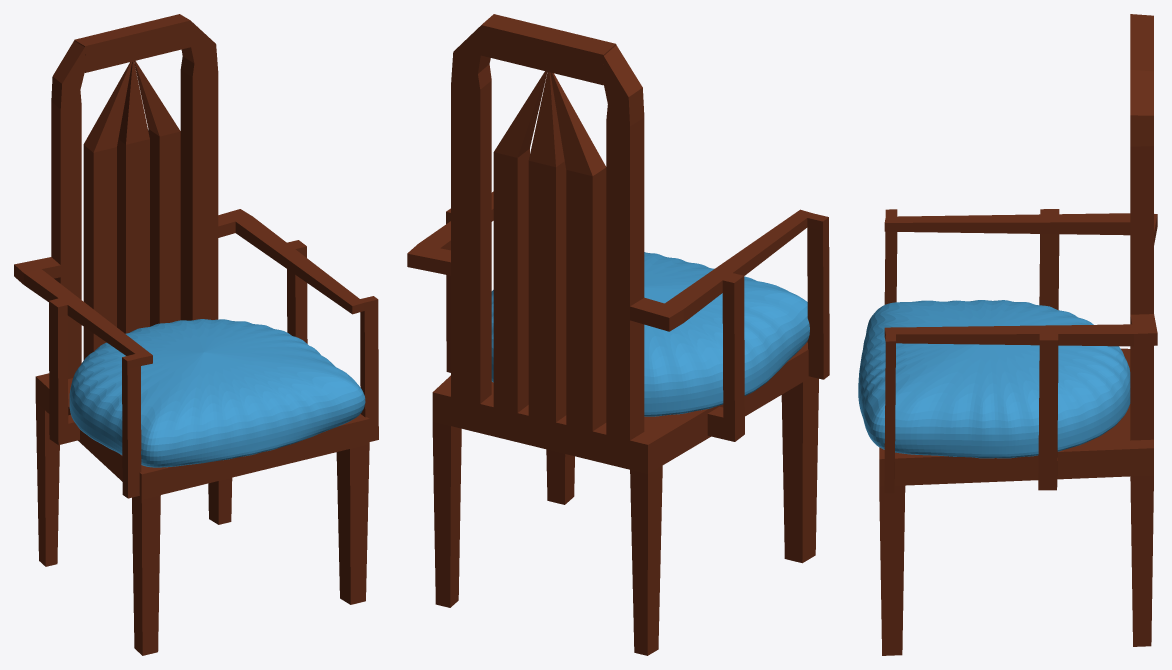
The model's file is chairroughaftersubsurfapply.fbx.
3 renders of one model, left to right at view 1: azimuth 30°, elevation 25°; view 2: azimuth 150°, elevation 25°; view 3: azimuth 270°, elevation 25°, orthographic. The views are drawn at different scales.
Visible parts, largest first — view 1: Cube, Cylinder; view 2: Cube, Cylinder; view 3: Cube, Cylinder.
Part boxes in pixels (x1=…): Cube: x1=14, y1=14, x2=378, y2=655; Cylinder: x1=69, y1=319, x2=365, y2=467; Cube: x1=407, y1=14, x2=829, y2=655; Cylinder: x1=491, y1=252, x2=809, y2=416; Cube: x1=879, y1=14, x2=1157, y2=655; Cylinder: x1=858, y1=300, x2=1130, y2=458.
Size of the model in its own units: 516 by 1007 by 492.
